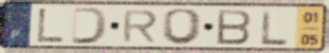B: (216, 8, 254, 46)
D: (69, 6, 111, 45)
L: (35, 7, 67, 43), (261, 8, 290, 47)
O: (160, 7, 206, 46)
R: (120, 9, 160, 44)
